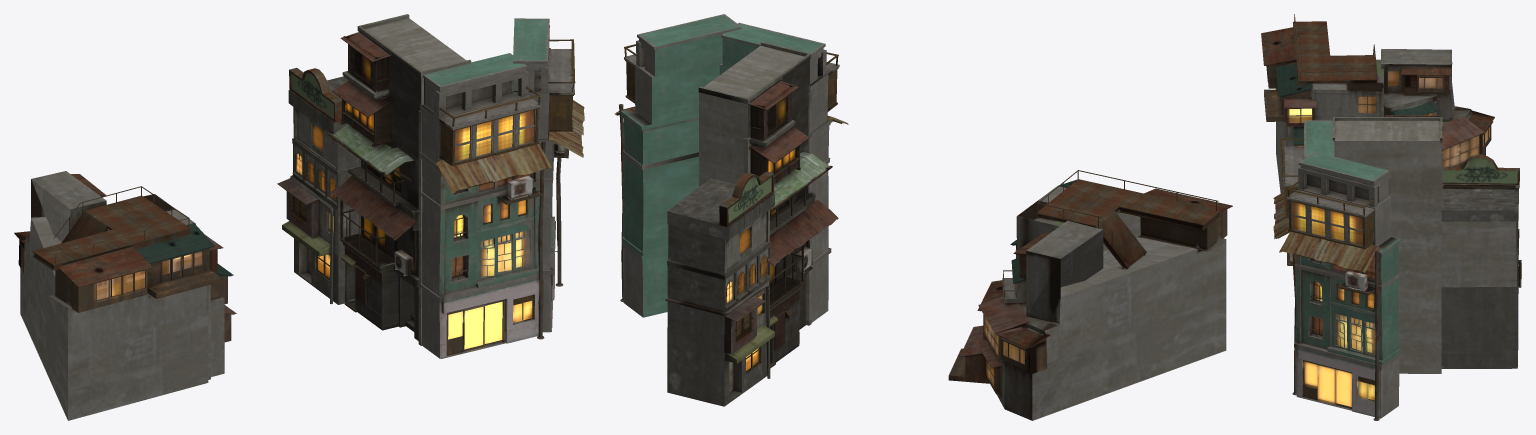
Rendered from shop 02 bake.fbx.
3 views of the same model, side by side, from view 1: azimuth 30°, elevation 25°; view 2: azimuth 150°, elevation 25°; view 3: azimuth 270°, elevation 25° (orthographic). The views are drawn at different scales.
Visible parts, largest first — view 1: GFX_1; view 2: GFX_1; view 3: GFX_1.
Part boxes in pixels (box(x1,y1,x2,y2)): GFX_1: box(14, 14, 584, 420); GFX_1: box(614, 14, 1232, 420); GFX_1: box(1261, 14, 1521, 420).
Bounding box in the file's own units: 3813 × 1739 × 1742.
